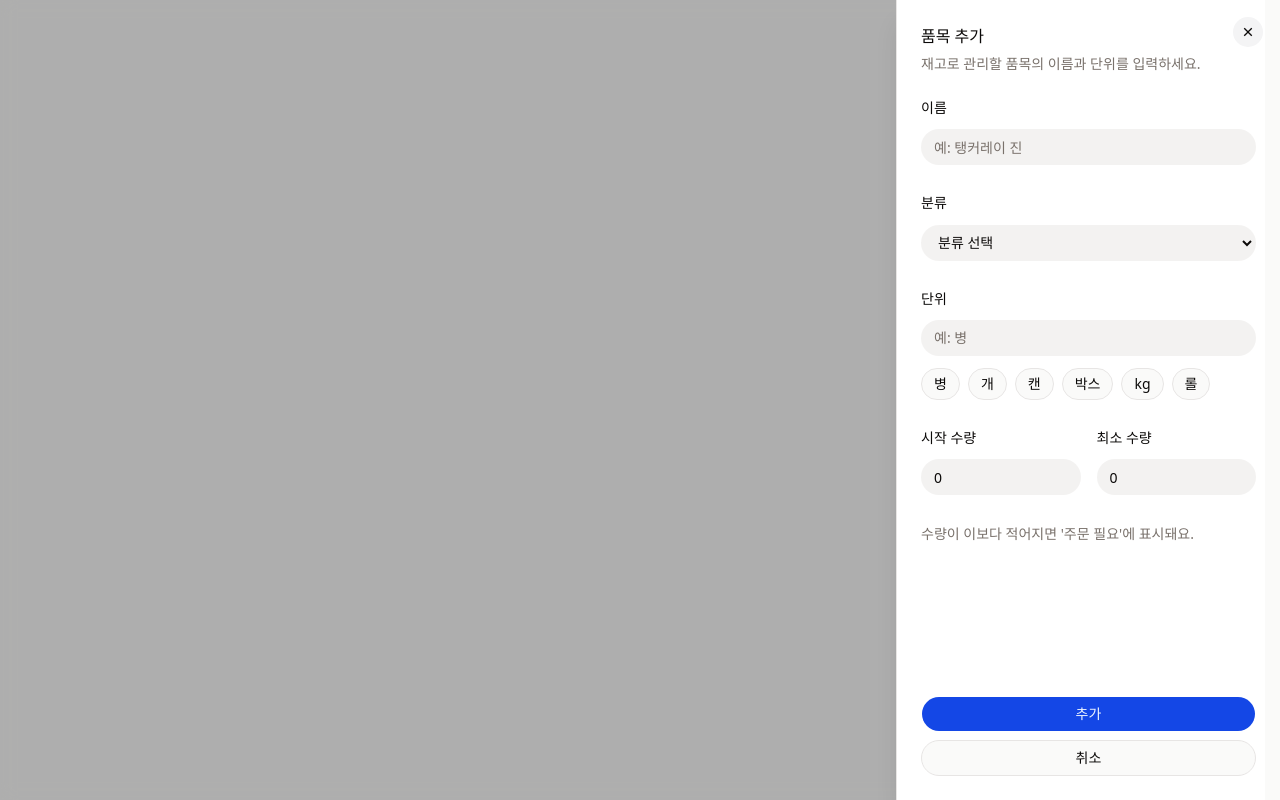
it: ItemFormSheet › explains every missing required field instead of submitting
The image size is (1280, 800).
What coordinates should you click on to do the following:
click the button "추가"
I would click on:
 (1088, 714)
Its box is [921,696,1256,732].
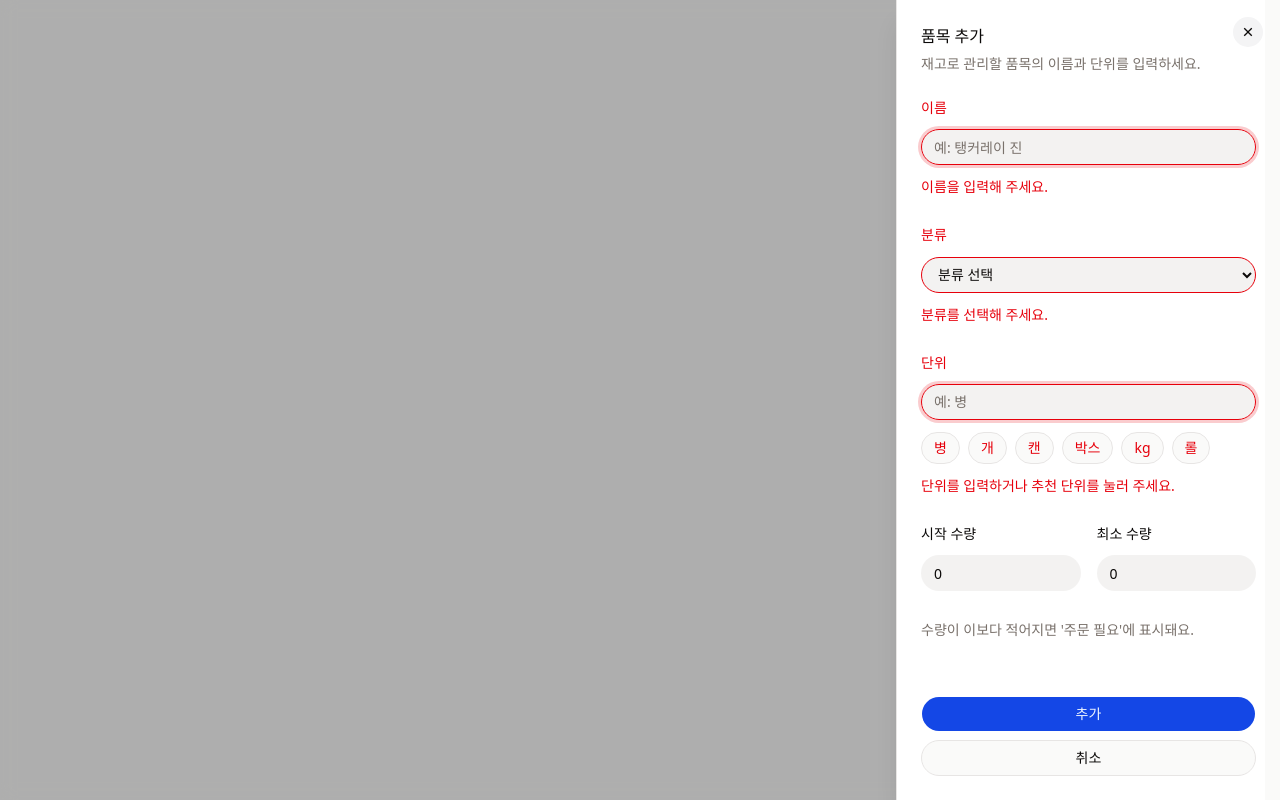
Result: the text "이름을 입력해 주세요." is shown at [921,177,1048,196]
Result: the text "분류를 선택해 주세요." is shown at [921,304,1048,324]
Result: the text "단위를 입력하거나 추천 단위를 눌러 주세요." is shown at [921,476,1175,495]
